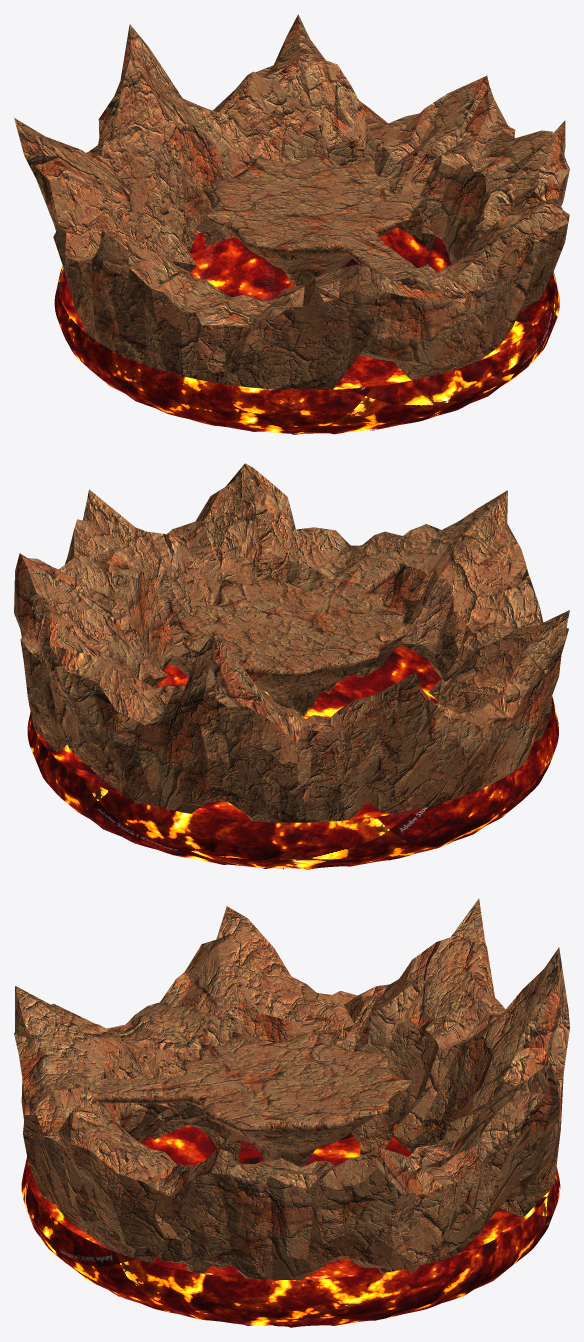
File: Hell arena.fbx
3 renders of one model, top to bottom at view 1: azimuth 30°, elevation 25°; view 2: azimuth 150°, elevation 25°; view 3: azimuth 270°, elevation 25°, orthographic. The views are drawn at different scales.
Parts seen in each view (by area): view 1: Circle, Circle.001, Plane; view 2: Circle, Circle.001, Plane; view 3: Circle, Circle.001, Plane.
Boxes of the visible parts, box(x1,y1,x2,y2) form: Circle: box(14, 14, 569, 390); Circle.001: box(54, 228, 559, 434); Plane: box(205, 151, 423, 287); Circle: box(14, 463, 569, 869); Circle.001: box(27, 645, 558, 869); Plane: box(177, 553, 413, 717); Circle: box(14, 899, 569, 1279); Circle.001: box(21, 1120, 560, 1327); Plane: box(90, 1029, 411, 1167).
Size of the model in its own units: 492 by 275 by 481.
